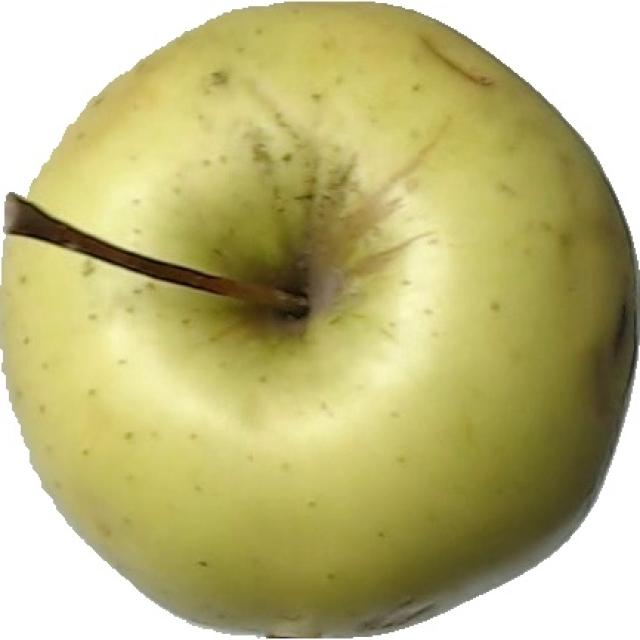Golden Elma: (1, 3, 640, 626)
